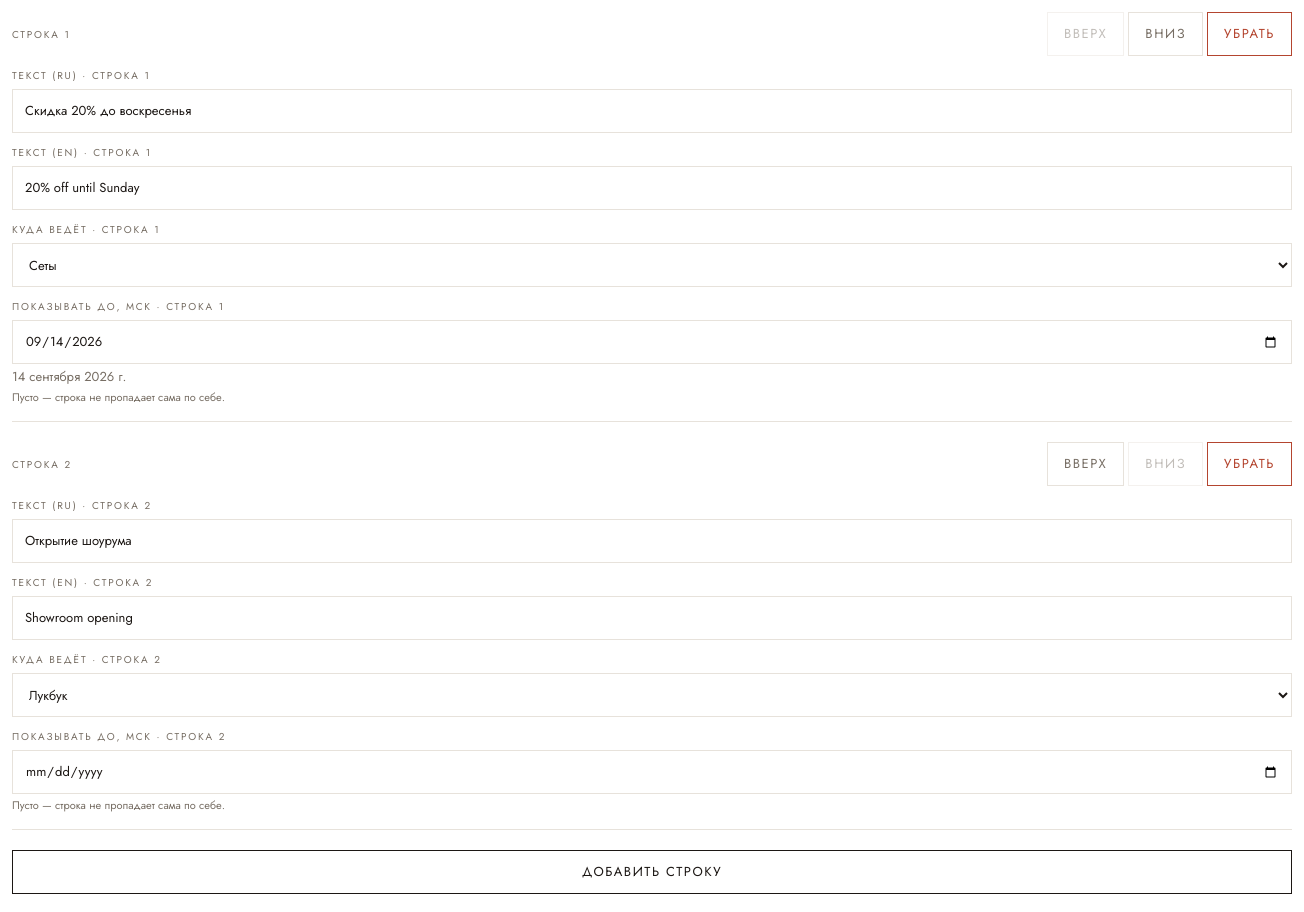
Test case: строки списка — не изменившееся поведение › «убрать» снимает строку из списка — бывшая строка 2 сдвигается на её место
Click the 1st button "убрать".
click(1250, 34)  # box [1207,12,1292,56]
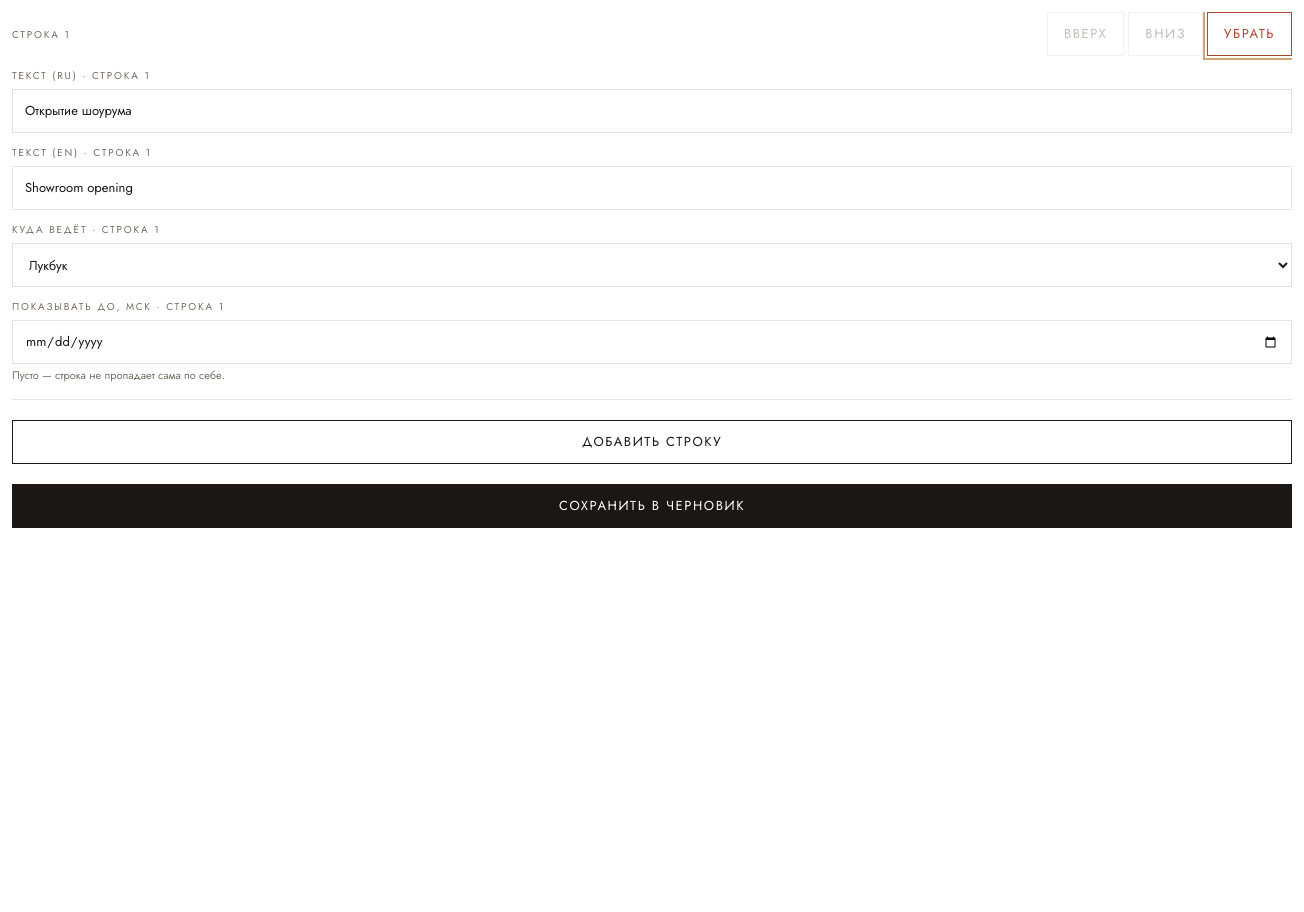
Now the text labelled "Текст (ru) · строка 2" is gone
Now the field labelled "Текст (ru) · строка 1" holds "Открытие шоурума", box [12,89,1292,133]
